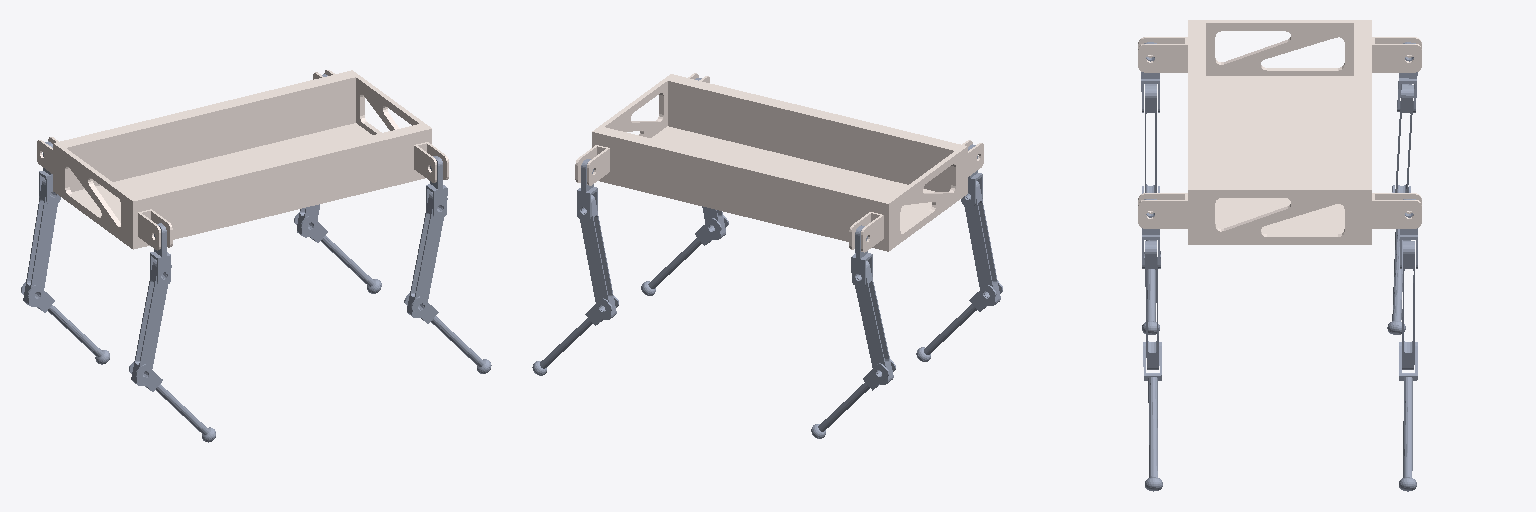
URDF robot description (quadroit_v1):
<?xml version="1.0" encoding="utf-8"?>
<!-- This URDF was automatically created by SolidWorks to URDF Exporter! Originally created by [author] ([email redacted]) 
     Commit Version: 1.5.1-0-g916b5db  Build Version: 1.5.7152.31018
     For more information, please see http://wiki.ros.org/sw_urdf_exporter -->
<robot
  name="quadroit_v1">
  <link
    name="map">
    <visual>
      <origin
        xyz="0 0 0"
        rpy="0 0 0" />
      <geometry>
        <mesh
          filename="meshes/base_link_torso.STL" />
      </geometry>
      <material
        name="">
        <color
          rgba="1 0.95686 0.93725 1" />
      </material>
    </visual>
    <collision>
      <origin
        xyz="0 0 0"
        rpy="0 0 0" />
      <geometry>
        <mesh
          filename="meshes/base_link_torso.STL" />
      </geometry>
    </collision>
  </link>
  <link
    name="torso">
    <inertial>
      <origin
        xyz="0 1.8746E-05 -0.0070117"
        rpy="0 0 0" />
      <mass
        value="13.769" />
      <inertia
        ixx="0.23618"
        ixy="3.5387E-16"
        ixz="-3.1186E-17"
        iyy="0.56891"
        iyz="-0.00024972"
        izz="0.77773" />
    </inertial>
    <visual>
      <origin
        xyz="0 0 0"
        rpy="0 0 0" />
      <geometry>
        <mesh
          filename="meshes/base_link_torso.STL" />
      </geometry>
      <material
        name="">
        <color
          rgba="1 0.95686 0.93725 1" />
      </material>
    </visual>
    <collision>
      <origin
        xyz="0 0 0"
        rpy="0 0 0" />
      <geometry>
        <mesh
          filename="meshes/base_link_torso.STL" />
      </geometry>
    </collision>
  </link>
  <link
    name="leg_fr_hip">
    <inertial>
      <origin
        xyz="0.037459 0 0"
        rpy="0 0 0" />
      <mass
        value="0.085716" />
      <inertia
        ixx="1.3291E-05"
        ixy="-3.4278E-21"
        ixz="9.2434E-20"
        iyy="8.7399E-05"
        iyz="-2.4112E-21"
        izz="9.3226E-05" />
    </inertial>
    <visual>
      <origin
        xyz="0 0 0"
        rpy="0 0 0" />
      <geometry>
        <mesh
          filename="meshes/leg_fr_hip.STL" />
      </geometry>
      <material
        name="">
        <color
          rgba="0.66667 0.69804 0.76863 1" />
      </material>
    </visual>
    <collision>
      <origin
        xyz="0 0 0"
        rpy="0 0 0" />
      <geometry>
        <mesh
          filename="meshes/leg_fr_hip.STL" />
      </geometry>
    </collision>
  </link>
  <joint
    name="dummy_base_link_torso"
    type="fixed">
    <origin
      xyz="0 0 0"
      rpy="0 0 0" />
    <parent
      link="map" />
    <child
      link="torso" />
    <axis
      xyz="0 0 0" />
  </joint>
  <joint
    name="joint_fr_torso_hip"
    type="revolute">
    <origin
      xyz="0.3 -0.21 0"
      rpy="1.5708 1.5592 1.5708" />
    <parent
      link="torso" />
    <child
      link="leg_fr_hip" />
    <axis
      xyz="0 0 1" />
    <limit
      lower="-1.57"
      upper="1.57"
      effort="1000"
      velocity="0.5" />
  </joint>
  <link
    name="leg_fr_thigh">
    <inertial>
      <origin
        xyz="0.1 0.00053754 0"
        rpy="0 0 0" />
      <mass
        value="0.17647" />
      <inertia
        ixx="2.2878E-05"
        ixy="-3.007E-19"
        ixz="5.8022E-20"
        iyy="0.0013721"
        iyz="4.8704E-21"
        izz="0.0013771" />
    </inertial>
    <visual>
      <origin
        xyz="0 0 0"
        rpy="0 0 0" />
      <geometry>
        <mesh
          filename="meshes/leg_fr_thigh.STL" />
      </geometry>
      <material
        name="">
        <color
          rgba="0.66667 0.69804 0.76863 1" />
      </material>
    </visual>
    <collision>
      <origin
        xyz="0 0 0"
        rpy="0 0 0" />
      <geometry>
        <mesh
          filename="meshes/leg_fr_thigh.STL" />
      </geometry>
    </collision>
  </link>
  <joint
    name="joint_fr_hip_thigh"
    type="revolute">
    <origin
      xyz="0.08 0 0"
      rpy="1.5708 0.20146 0" />
    <parent
      link="leg_fr_hip" />
    <child
      link="leg_fr_thigh" />
    <axis
      xyz="0 0 1" />
    <limit
      lower="-1.57"
      upper="1.57"
      effort="1000"
      velocity="0.5" />
  </joint>
  <link
    name="leg_fr_shank">
    <inertial>
      <origin
        xyz="0.11296 1.1102E-16 6.9389E-18"
        rpy="0 0 0" />
      <mass
        value="0.15342" />
      <inertia
        ixx="1.4557E-05"
        ixy="2.3378E-19"
        ixz="1.931E-20"
        iyy="0.00096153"
        iyz="-7.6233E-21"
        izz="0.00095871" />
    </inertial>
    <visual>
      <origin
        xyz="0 0 0"
        rpy="0 0 0" />
      <geometry>
        <mesh
          filename="meshes/leg_fr_shank.STL" />
      </geometry>
      <material
        name="">
        <color
          rgba="0.66667 0.69804 0.76863 1" />
      </material>
    </visual>
    <collision>
      <origin
        xyz="0 0 0"
        rpy="0 0 0" />
      <geometry>
        <mesh
          filename="meshes/leg_fr_shank.STL" />
      </geometry>
    </collision>
  </link>
  <joint
    name="joint_fr_thigh_shank"
    type="revolute">
    <origin
      xyz="0.2 0 0"
      rpy="0 0 0.92486" />
    <parent
      link="leg_fr_thigh" />
    <child
      link="leg_fr_shank" />
    <axis
      xyz="0 0 1" />
    <limit
      lower="-1.57"
      upper="1.57"
      effort="1000"
      velocity="0.5" />
  </joint>
  <link
    name="leg_fr_foot">
    <!-- <inertial>
      <origin
        xyz="0 0 0"
        rpy="0 0 0" />
      <mass
        value="0" />
      <inertia
        ixx="1.4557E-05"
        ixy="8.4237E-19"
        ixz="-7.2387E-20"
        iyy="0.00096153"
        iyz="-1.1435E-20"
        izz="0.00095871" />
    </inertial> -->
    <!-- <visual>
      <origin
        xyz="0 0 0"
        rpy="0 0 0" />
      <geometry>
        <mesh
          filename="meshes/leg_rr_shank.STL" />
      </geometry>
      <material
        name="">
        <color
          rgba="0.66667 0.69804 0.76863 1" />
      </material>
    </visual> -->
    <!-- <collision>
      <origin
        xyz="0 0 0"
        rpy="0 0 0" />
      <geometry>
        <mesh
          filename="meshes/leg_rr_shank.STL" />
      </geometry>
    </collision> -->
  </link>
  <joint
    name="joint_fr_foot"
    type="fixed">
    <origin
      xyz="0.23 0 0"
      rpy="0 0 0" />
    <parent
      link="leg_fr_shank" />
    <child
      link="leg_fr_foot" />
  </joint>




  <link
    name="leg_fl_hip">
    <inertial>
      <origin
        xyz="0.037459 0 0"
        rpy="0 0 0" />
      <mass
        value="0.085716" />
      <inertia
        ixx="1.3291E-05"
        ixy="-2.2056E-20"
        ixz="1.8132E-19"
        iyy="8.7399E-05"
        iyz="8.636E-21"
        izz="9.3226E-05" />
    </inertial>
    <visual>
      <origin
        xyz="0 0 0"
        rpy="0 0 0" />
      <geometry>
        <mesh
          filename="meshes/leg_fl_hip.STL" />
      </geometry>
      <material
        name="">
        <color
          rgba="0.66667 0.69804 0.76863 1" />
      </material>
    </visual>
    <collision>
      <origin
        xyz="0 0 0"
        rpy="0 0 0" />
      <geometry>
        <mesh
          filename="meshes/leg_fl_hip.STL" />
      </geometry>
    </collision>
  </link>
  <joint
    name="joint_fl_torso_hip"
    type="revolute">
    <origin
      xyz="0.3 0.21 0"
      rpy="-1.5708 1.5654 -1.5708" />
    <parent
      link="torso" />
    <child
      link="leg_fl_hip" />
    <axis
      xyz="0 0 1" />
    <limit
      lower="-1.57"
      upper="1.57"
      effort="1000"
      velocity="0.5" />
  </joint>
  <link
    name="leg_fl_thigh">
    <inertial>
      <origin
        xyz="0.1 0.00053754 0"
        rpy="0 0 0" />
      <mass
        value="0.17647" />
      <inertia
        ixx="2.2878E-05"
        ixy="-9.4868E-20"
        ixz="1.0785E-19"
        iyy="0.0013721"
        iyz="3.0705E-21"
        izz="0.0013771" />
    </inertial>
    <visual>
      <origin
        xyz="0 0 0"
        rpy="0 0 0" />
      <geometry>
        <mesh
          filename="meshes/leg_fl_thigh.STL" />
      </geometry>
      <material
        name="">
        <color
          rgba="0.66667 0.69804 0.76863 1" />
      </material>
    </visual>
    <collision>
      <origin
        xyz="0 0 0"
        rpy="0 0 0" />
      <geometry>
        <mesh
          filename="meshes/leg_fl_thigh.STL" />
      </geometry>
    </collision>
  </link>
  <joint
    name="joint_fl_hip_thigh"
    type="revolute">
    <origin
      xyz="0.08 0 0"
      rpy="1.5708 0.20146 0" />
    <parent
      link="leg_fl_hip" />
    <child
      link="leg_fl_thigh" />
    <axis
      xyz="0 0 1" />
    <limit
      lower="-1.57"
      upper="1.57"
      effort="1000"
      velocity="0.5" />
  </joint>
  <link
    name="leg_fl_shank">
    <inertial>
      <origin
        xyz="0.11296 3.3307E-16 -5.5511E-17"
        rpy="0 0 0" />
      <mass
        value="0.15342" />
      <inertia
        ixx="1.4557E-05"
        ixy="2.5242E-19"
        ixz="1.8619E-19"
        iyy="0.00096153"
        iyz="1.207E-20"
        izz="0.00095871" />
    </inertial>
    <visual>
      <origin
        xyz="0 0 0"
        rpy="0 0 0" />
      <geometry>
        <mesh
          filename="meshes/leg_fl_shank.STL" />
      </geometry>
      <material
        name="">
        <color
          rgba="0.66667 0.69804 0.76863 1" />
      </material>
    </visual>
    <collision>
      <origin
        xyz="0 0 0"
        rpy="0 0 0" />
      <geometry>
        <mesh
          filename="meshes/leg_fl_shank.STL" />
      </geometry>
    </collision>
  </link>
  <joint
    name="joint_fl_thigh_shank"
    type="revolute">
    <origin
      xyz="0.2 0 0"
      rpy="0 0 0.92486" />
    <parent
      link="leg_fl_thigh" />
    <child
      link="leg_fl_shank" />
    <axis
      xyz="0 0 1" />
    <limit
      lower="-1.57"
      upper="1.57"
      effort="1000"
      velocity="0.5" />
  </joint>
  <link
    name="leg_fl_foot">
    <!-- <inertial>
      <origin
        xyz="0 0 0"
        rpy="0 0 0" />
      <mass
        value="0" />
      <inertia
        ixx="1.4557E-05"
        ixy="8.4237E-19"
        ixz="-7.2387E-20"
        iyy="0.00096153"
        iyz="-1.1435E-20"
        izz="0.00095871" />
    </inertial> -->
    <!-- <visual>
      <origin
        xyz="0 0 0"
        rpy="0 0 0" />
      <geometry>
        <mesh
          filename="meshes/leg_rr_shank.STL" />
      </geometry>
      <material
        name="">
        <color
          rgba="0.66667 0.69804 0.76863 1" />
      </material>
    </visual> -->
    <!-- <collision>
      <origin
        xyz="0 0 0"
        rpy="0 0 0" />
      <geometry>
        <mesh
          filename="meshes/leg_rr_shank.STL" />
      </geometry>
    </collision> -->
  </link>
  <joint
    name="joint_fl_foot"
    type="fixed">
    <origin
      xyz="0.23 0 0"
      rpy="0 0 0" />
    <parent
      link="leg_fl_shank" />
    <child
      link="leg_fl_foot" />
  </joint>






  <link
    name="leg_rl_hip">
    <inertial>
      <origin
        xyz="0.037459 -1.1102E-16 -5.5511E-17"
        rpy="0 0 0" />
      <mass
        value="0.085716" />
      <inertia
        ixx="1.3291E-05"
        ixy="1.6411E-20"
        ixz="1.2826E-20"
        iyy="8.7399E-05"
        iyz="4.0862E-22"
        izz="9.3226E-05" />
    </inertial>
    <visual>
      <origin
        xyz="0 0 0"
        rpy="0 0 0" />
      <geometry>
        <mesh
          filename="meshes/leg_rl_hip.STL" />
      </geometry>
      <material
        name="">
        <color
          rgba="0.66667 0.69804 0.76863 1" />
      </material>
    </visual>
    <collision>
      <origin
        xyz="0 0 0"
        rpy="0 0 0" />
      <geometry>
        <mesh
          filename="meshes/leg_rl_hip.STL" />
      </geometry>
    </collision>
  </link>
  <joint
    name="joint_rl_torso_hip"
    type="revolute">
    <origin
      xyz="-0.3 0.21 0"
      rpy="-1.5708 1.5239 -1.5708" />
    <parent
      link="torso" />
    <child
      link="leg_rl_hip" />
    <axis
      xyz="0 0 1" />
    <limit
      lower="-1.57"
      upper="1.57"
      effort="1000"
      velocity="0.5" />
  </joint>
  <link
    name="leg_rl_thigh">
    <inertial>
      <origin
        xyz="0.1 0.00053754 -5.5511E-17"
        rpy="0 0 0" />
      <mass
        value="0.17647" />
      <inertia
        ixx="2.2878E-05"
        ixy="-3.2611E-20"
        ixz="6.321E-20"
        iyy="0.0013721"
        iyz="-1.1011E-20"
        izz="0.0013771" />
    </inertial>
    <visual>
      <origin
        xyz="0 0 0"
        rpy="0 0 0" />
      <geometry>
        <mesh
          filename="meshes/leg_rl_thigh.STL" />
      </geometry>
      <material
        name="">
        <color
          rgba="0.66667 0.69804 0.76863 1" />
      </material>
    </visual>
    <collision>
      <origin
        xyz="0 0 0"
        rpy="0 0 0" />
      <geometry>
        <mesh
          filename="meshes/leg_rl_thigh.STL" />
      </geometry>
    </collision>
  </link>
  <joint
    name="joint_rl_hip_thigh"
    type="revolute">
    <origin
      xyz="0.08 0 0"
      rpy="1.5708 0.20146 0" />
    <parent
      link="leg_rl_hip" />
    <child
      link="leg_rl_thigh" />
    <axis
      xyz="0 0 1" />
    <limit
      lower="-1.57"
      upper="1.57"
      effort="1000"
      velocity="0.5" />
  </joint>
  <link
    name="leg_rl_shank">
    <inertial>
      <origin
        xyz="0.11296 -1.1102E-16 5.5511E-17"
        rpy="0 0 0" />
      <mass
        value="0.15342" />
      <inertia
        ixx="1.4557E-05"
        ixy="6.8186E-20"
        ixz="-4.9498E-20"
        iyy="0.00096153"
        iyz="5.0822E-21"
        izz="0.00095871" />
    </inertial>
    <visual>
      <origin
        xyz="0 0 0"
        rpy="0 0 0" />
      <geometry>
        <mesh
          filename="meshes/leg_rl_shank.STL" />
      </geometry>
      <material
        name="">
        <color
          rgba="0.66667 0.69804 0.76863 1" />
      </material>
    </visual>
    <collision>
      <origin
        xyz="0 0 0"
        rpy="0 0 0" />
      <geometry>
        <mesh
          filename="meshes/leg_rl_shank.STL" />
      </geometry>
    </collision>
  </link>
  <joint
    name="joint_rl_thigh_shank"
    type="revolute">
    <origin
      xyz="0.2 0 0"
      rpy="0 0 0.92486" />
    <parent
      link="leg_rl_thigh" />
    <child
      link="leg_rl_shank" />
    <axis
      xyz="0 0 1" />
    <limit
      lower="-1.57"
      upper="1.57"
      effort="1000"
      velocity="0.5" />
  </joint>
  <link
    name="leg_rl_foot">
    <!-- <inertial>
      <origin
        xyz="0 0 0"
        rpy="0 0 0" />
      <mass
        value="0" />
      <inertia
        ixx="1.4557E-05"
        ixy="8.4237E-19"
        ixz="-7.2387E-20"
        iyy="0.00096153"
        iyz="-1.1435E-20"
        izz="0.00095871" />
    </inertial> -->
    <!-- <visual>
      <origin
        xyz="0 0 0"
        rpy="0 0 0" />
      <geometry>
        <mesh
          filename="meshes/leg_rr_shank.STL" />
      </geometry>
      <material
        name="">
        <color
          rgba="0.66667 0.69804 0.76863 1" />
      </material>
    </visual> -->
    <!-- <collision>
      <origin
        xyz="0 0 0"
        rpy="0 0 0" />
      <geometry>
        <mesh
          filename="meshes/leg_rr_shank.STL" />
      </geometry>
    </collision> -->
  </link>
  <joint
    name="joint_rl_foot"
    type="fixed">
    <origin
      xyz="0.23 0 0"
      rpy="0 0 0" />
    <parent
      link="leg_rl_shank" />
    <child
      link="leg_rl_foot" />
  </joint>








  <link
    name="leg_rr_hip">
    <inertial>
      <origin
        xyz="0.037459 2.0817E-17 -5.5511E-17"
        rpy="0 0 0" />
      <mass
        value="0.085716" />
      <inertia
        ixx="1.3291E-05"
        ixy="-1.1211E-20"
        ixz="6.432E-20"
        iyy="8.7399E-05"
        iyz="7.8262E-21"
        izz="9.3226E-05" />
    </inertial>
    <visual>
      <origin
        xyz="0 0 0"
        rpy="0 0 0" />
      <geometry>
        <mesh
          filename="meshes/leg_rr_hip.STL" />
      </geometry>
      <material
        name="">
        <color
          rgba="0.66667 0.69804 0.76863 1" />
      </material>
    </visual>
    <collision>
      <origin
        xyz="0 0 0"
        rpy="0 0 0" />
      <geometry>
        <mesh
          filename="meshes/leg_rr_hip.STL" />
      </geometry>
    </collision>
  </link>
  <joint
    name="joint_rr_torso_hip"
    type="revolute">
    <origin
      xyz="-0.3 -0.21 0"
      rpy="1.5708 1.5698 1.5708" />
    <parent
      link="torso" />
    <child
      link="leg_rr_hip" />
    <axis
      xyz="0 0 1" />
    <limit
      lower="-1.57"
      upper="1.57"
      effort="1000"
      velocity="0.5" />
  </joint>
  <link
    name="leg_rr_thigh">
    <inertial>
      <origin
        xyz="0.1 0.00053754 -1.3878E-17"
        rpy="0 0 0" />
      <mass
        value="0.17647" />
      <inertia
        ixx="2.2878E-05"
        ixy="-3.566E-19"
        ixz="1.0674E-19"
        iyy="0.0013721"
        iyz="-4.394E-21"
        izz="0.0013771" />
    </inertial>
    <visual>
      <origin
        xyz="0 0 0"
        rpy="0 0 0" />
      <geometry>
        <mesh
          filename="meshes/leg_rr_thigh.STL" />
      </geometry>
      <material
        name="">
        <color
          rgba="0.66667 0.69804 0.76863 1" />
      </material>
    </visual>
    <collision>
      <origin
        xyz="0 0 0"
        rpy="0 0 0" />
      <geometry>
        <mesh
          filename="meshes/leg_rr_thigh.STL" />
      </geometry>
    </collision>
  </link>
  <joint
    name="joint_rr_hip_thigh"
    type="revolute">
    <origin
      xyz="0.08 0 0"
      rpy="1.5708 0.20146 0" />
    <parent
      link="leg_rr_hip" />
    <child
      link="leg_rr_thigh" />
    <axis
      xyz="0 0 1" />
    <limit
      lower="-1.57"
      upper="1.57"
      effort="1000"
      velocity="0.5" />
  </joint>
  <link
    name="leg_rr_shank">
    <inertial>
      <origin
        xyz="0.11296 0 0"
        rpy="0 0 0" />
      <mass
        value="0.15342" />
      <inertia
        ixx="1.4557E-05"
        ixy="8.4237E-19"
        ixz="-7.2387E-20"
        iyy="0.00096153"
        iyz="-1.1435E-20"
        izz="0.00095871" />
    </inertial>
    <visual>
      <origin
        xyz="0 0 0"
        rpy="0 0 0" />
      <geometry>
        <mesh
          filename="meshes/leg_rr_shank.STL" />
      </geometry>
      <material
        name="">
        <color
          rgba="0.66667 0.69804 0.76863 1" />
      </material>
    </visual>
    <collision>
      <origin
        xyz="0 0 0"
        rpy="0 0 0" />
      <geometry>
        <mesh
          filename="meshes/leg_rr_shank.STL" />
      </geometry>
    </collision>
  </link>
  <joint
    name="joint_rr_thigh_shank"
    type="revolute">
    <origin
      xyz="0.2 0 0"
      rpy="0 0 0.92486" />
    <parent
      link="leg_rr_thigh" />
    <child
      link="leg_rr_shank" />
    <axis
      xyz="0 0 1" />
    <limit
      lower="-1.57"
      upper="1.57"
      effort="1000"
      velocity="0.5" />
  </joint>
  <link
    name="leg_rr_foot">
    <!-- <inertial>
      <origin
        xyz="0 0 0"
        rpy="0 0 0" />
      <mass
        value="0" />
      <inertia
        ixx="1.4557E-05"
        ixy="8.4237E-19"
        ixz="-7.2387E-20"
        iyy="0.00096153"
        iyz="-1.1435E-20"
        izz="0.00095871" />
    </inertial> -->
    <!-- <visual>
      <origin
        xyz="0 0 0"
        rpy="0 0 0" />
      <geometry>
        <mesh
          filename="meshes/leg_rr_shank.STL" />
      </geometry>
      <material
        name="">
        <color
          rgba="0.66667 0.69804 0.76863 1" />
      </material>
    </visual> -->
    <!-- <collision>
      <origin
        xyz="0 0 0"
        rpy="0 0 0" />
      <geometry>
        <mesh
          filename="meshes/leg_rr_shank.STL" />
      </geometry>
    </collision> -->
  </link>
  <joint
    name="joint_rr_foot"
    type="fixed">
    <origin
      xyz="0.23 0 0"
      rpy="0 0 0" />
    <parent
      link="leg_rr_shank" />
    <child
      link="leg_rr_foot" />
  </joint>
</robot>

--- What the picture shows (computed from the rendered views, not written in the file) ---
The picture shows the robot from 3 angles, left to right: view 1: azimuth 30°, elevation 25°; view 2: azimuth 150°, elevation 25°; view 3: azimuth 270°, elevation 25°; orthographic projection.
Robot: quadroit_v1 — 18 links, 17 joints (12 revolute, 5 fixed); root link map; default pose: every joint at zero.
Links seen in each view (by area): view 1: map, leg_rl_thigh, leg_rr_thigh, leg_fr_thigh, leg_rl_shank, leg_fl_shank, leg_rr_shank, leg_fr_shank, leg_fr_hip, leg_rr_hip; view 2: map, leg_rr_thigh, leg_fl_thigh, leg_rl_thigh, leg_fr_shank, leg_rr_shank, leg_fl_shank, leg_rl_shank, leg_rl_hip, leg_fl_hip; view 3: map, leg_fl_shank, leg_fr_shank, leg_fl_thigh, leg_fr_thigh, leg_rl_shank, leg_rl_thigh, leg_rr_shank, leg_rr_thigh.
Link boxes in pixels (box(x1,y1,x2,y2)): map: box(37, 70, 448, 250); leg_rl_thigh: box(23, 179, 57, 306); leg_rr_thigh: box(131, 260, 171, 385); leg_fr_thigh: box(407, 192, 447, 317); leg_rl_shank: box(21, 282, 109, 364); leg_fl_shank: box(294, 212, 381, 293); leg_rr_shank: box(129, 362, 215, 442); leg_fr_shank: box(404, 293, 491, 373); leg_fr_hip: box(426, 156, 447, 218); leg_rr_hip: box(150, 223, 170, 285); map: box(575, 73, 983, 252); leg_rr_thigh: box(964, 181, 1000, 305); leg_fl_thigh: box(580, 195, 616, 319); leg_rl_thigh: box(855, 261, 893, 384); leg_fr_shank: box(641, 215, 728, 295); leg_rr_shank: box(916, 281, 1002, 361); leg_fl_shank: box(532, 296, 618, 375); leg_rl_shank: box(811, 359, 895, 438); leg_rl_hip: box(851, 225, 872, 286); leg_fl_hip: box(577, 159, 597, 220); map: box(1138, 20, 1421, 244); leg_fl_shank: box(1399, 342, 1417, 491); leg_fr_shank: box(1143, 342, 1162, 491); leg_fl_thigh: box(1402, 240, 1414, 369); leg_fr_thigh: box(1145, 240, 1158, 369); leg_rl_shank: box(1387, 185, 1410, 334); leg_rl_thigh: box(1395, 84, 1413, 192); leg_rr_shank: box(1142, 186, 1159, 334); leg_rr_thigh: box(1145, 84, 1156, 192).
Bounding box of the posed robot: 0.7797 × 0.46 × 0.5041 m (x, y, z).
Meshes: 13 distinct files referenced, 14 mesh visuals loaded (13 binary STL).